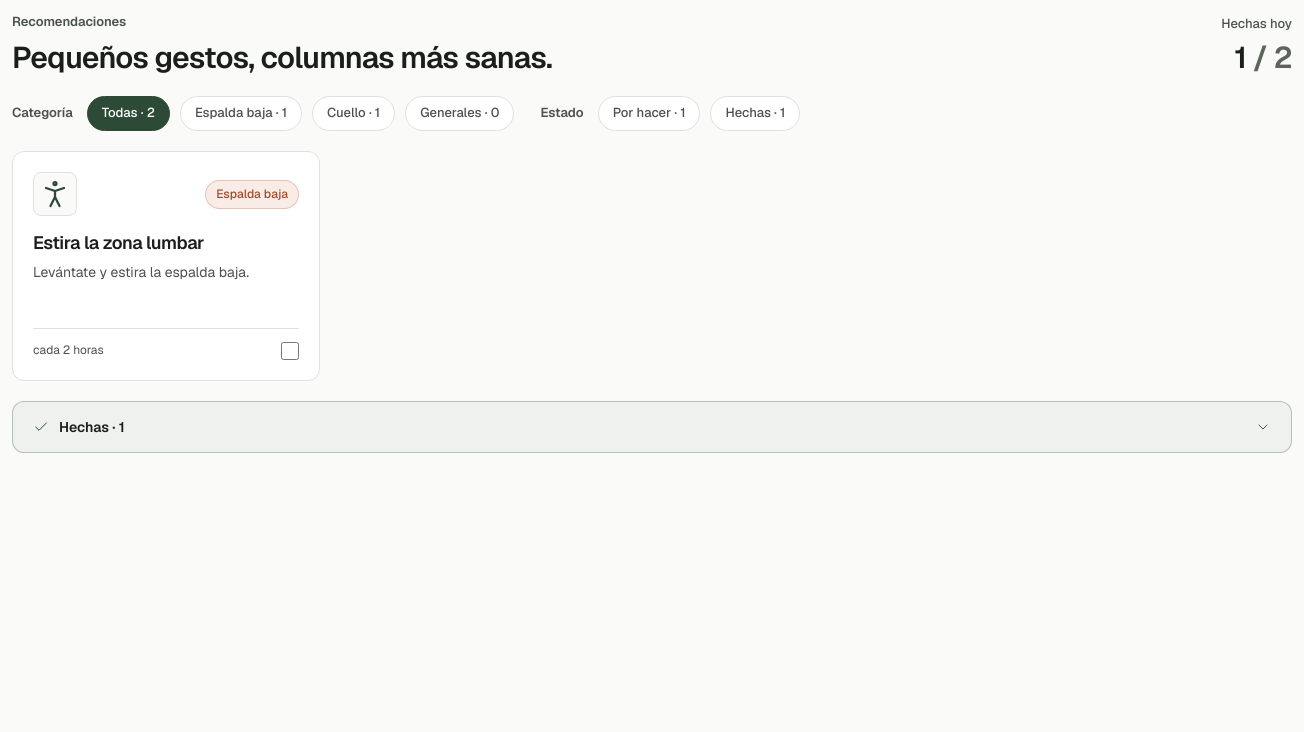
RecommendationsPage — US013 checkbox + tachado › una recomendación aplicada tiene el checkbox marcado y el título tachado
What coordinates should you click on to do the following:
click the 2nd button "Hechas · 1"
I would click on:
 (89, 427)
Its box is x1=12 y1=401 x2=1292 y2=454.
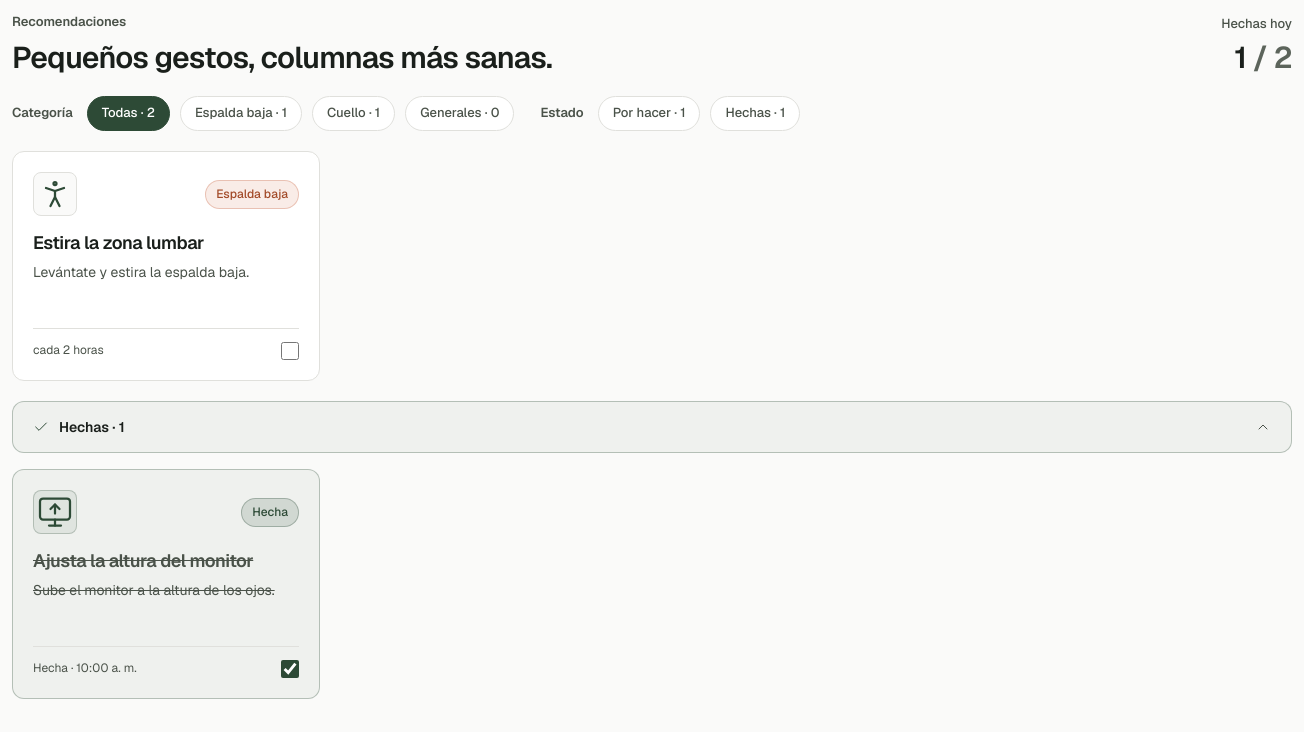
Expected: the checkbox named "marcar \"ajusta la altura del monitor\" como hecha" is checked, x1=281 y1=660 x2=299 y2=678
